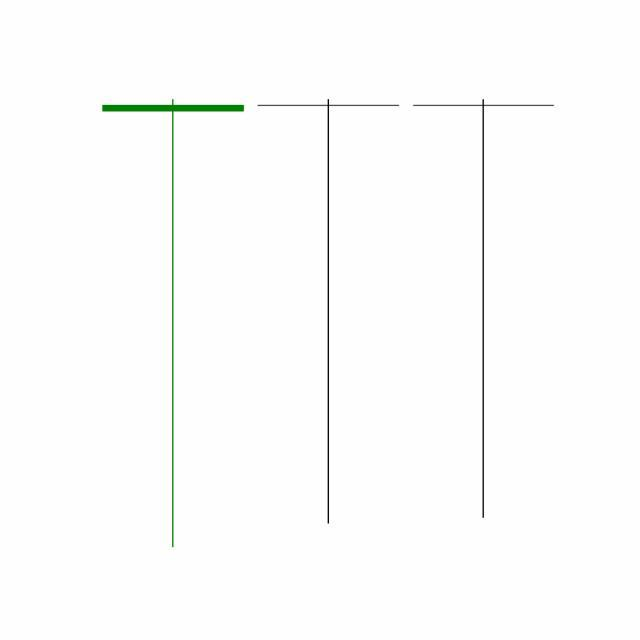Dragonfly Doji: (250, 94, 407, 529)
